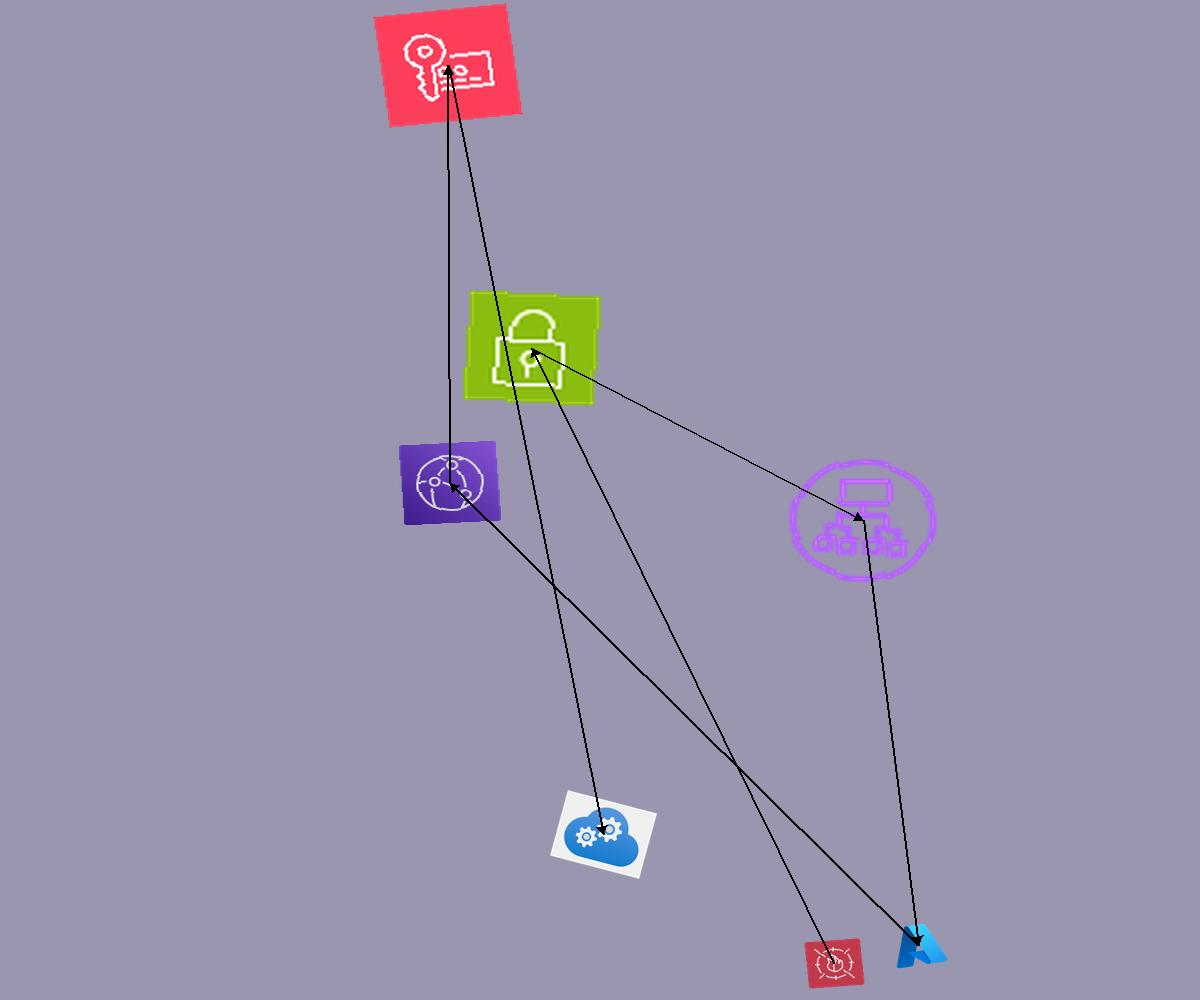AWS-CloudFront: (398, 440, 502, 526)
AWS-Key-Management-Service: (373, 3, 523, 128)
AWS-Public-subnet: (460, 288, 604, 408)
AWS-Res_Elastic-Load-Balancing_Application-Load-Balancer: (776, 448, 950, 593)
AWS-WAF: (804, 938, 865, 989)
Azure_cloud_services: (550, 790, 657, 879)
Azure_services: (886, 918, 951, 972)
